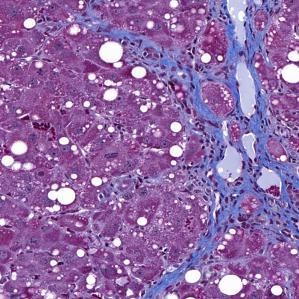fibrosis: (139, 38, 270, 108), (200, 147, 299, 234)
